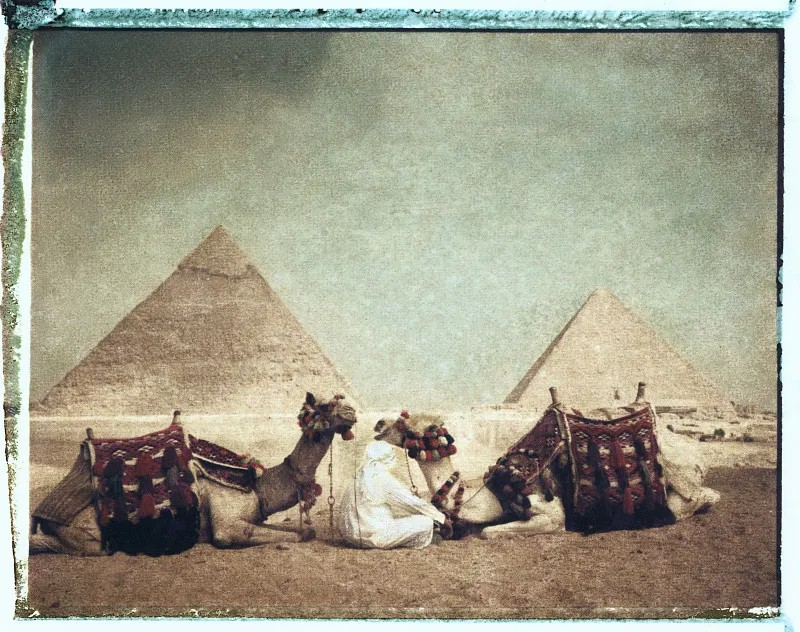Pyramid: (45, 223, 367, 413), (501, 289, 733, 411)
